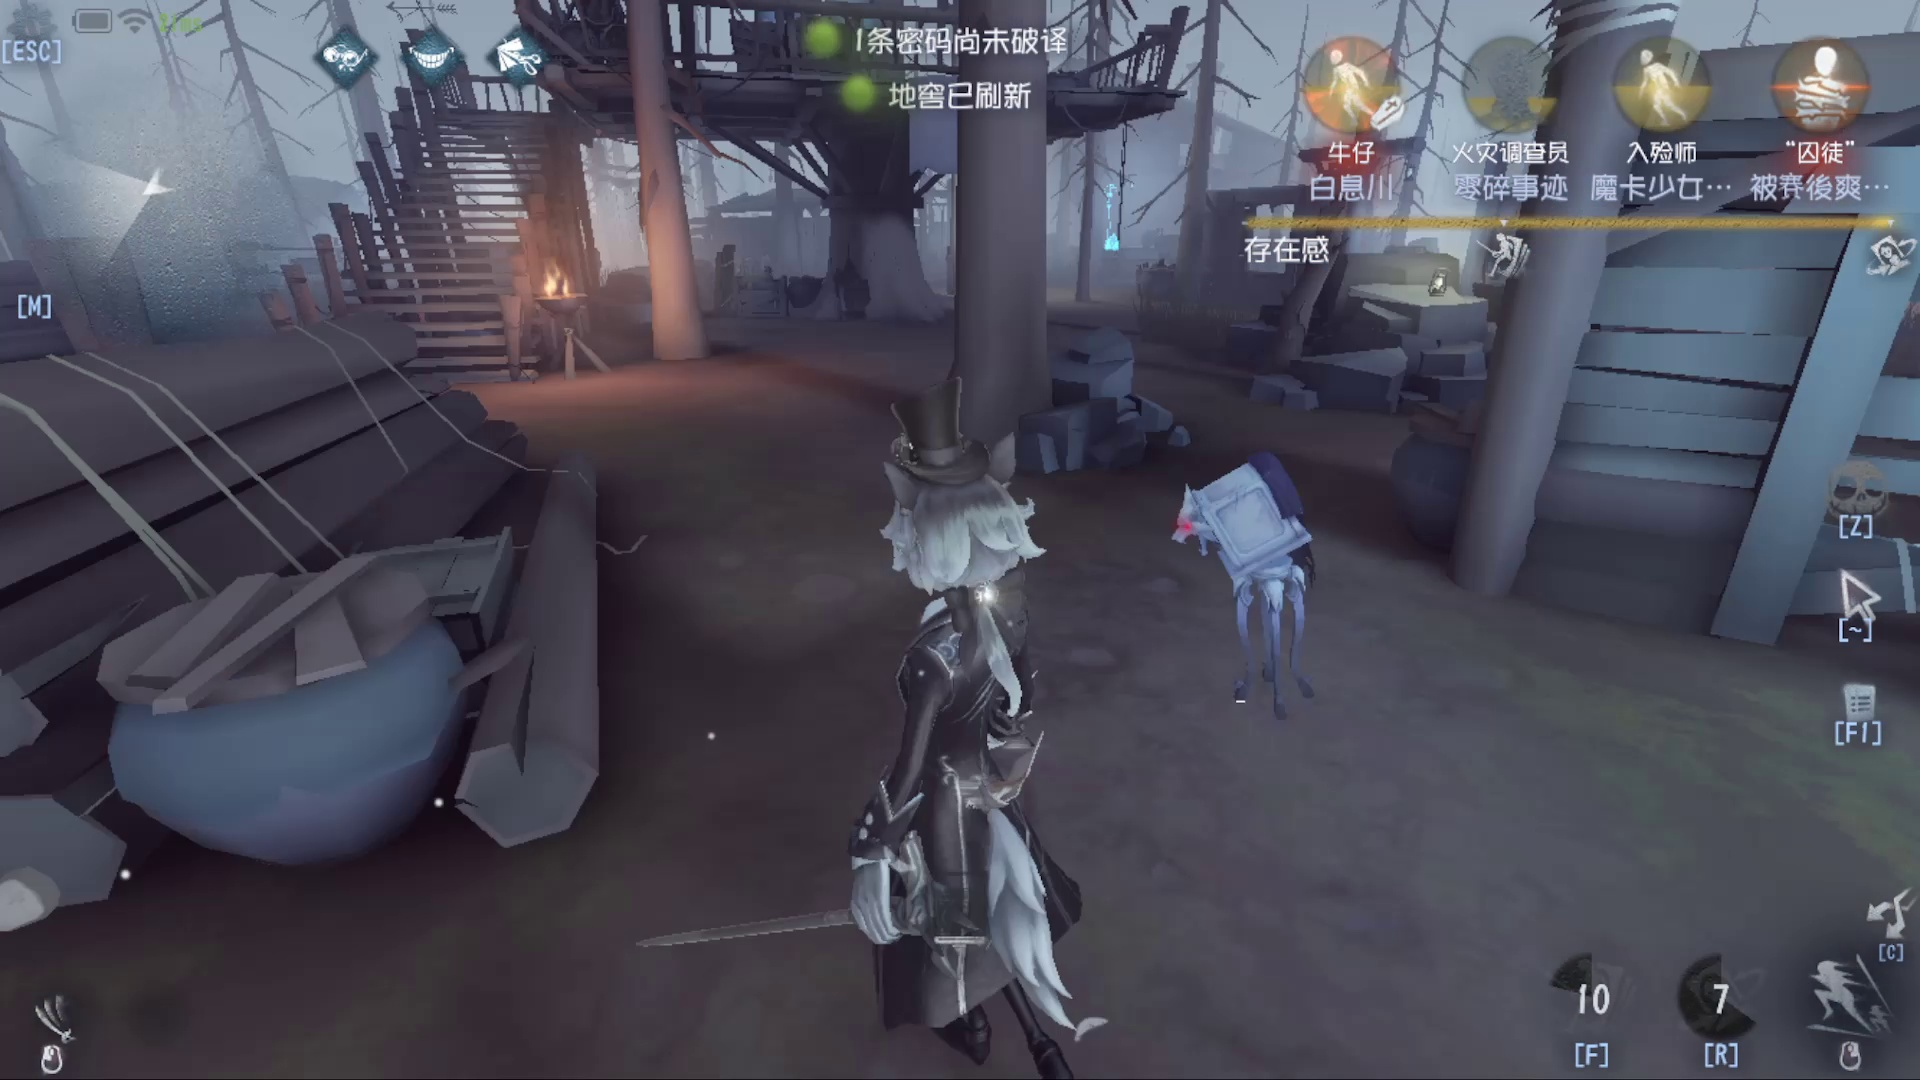密码机: (1098, 169, 1153, 280)
